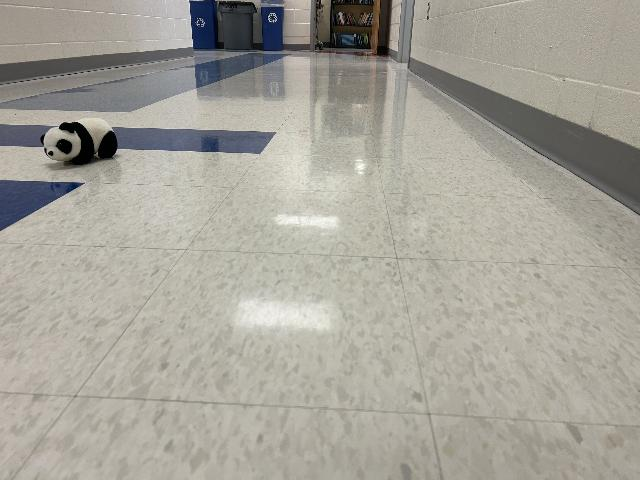panda_plushie: (40, 117, 118, 165)
